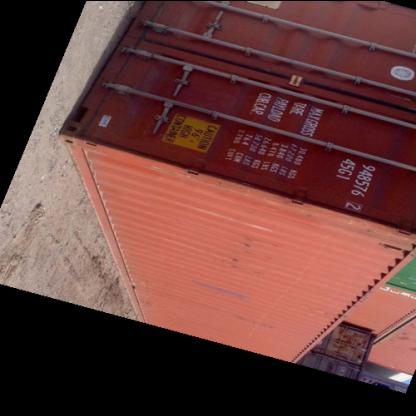Damage: (198, 177, 414, 251)
